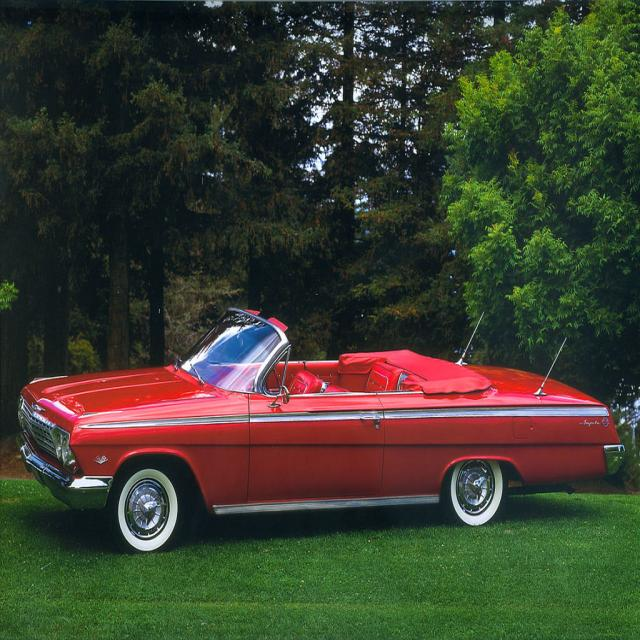car: (10, 305, 623, 551)
